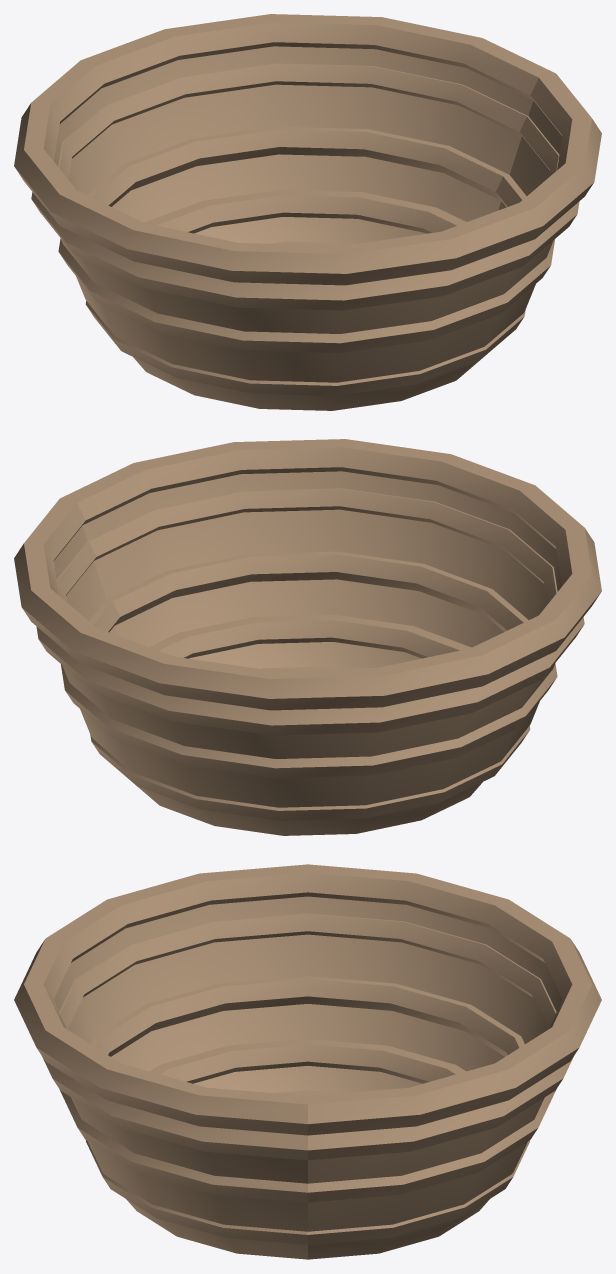
Rendered from restaurant-kitchen-and-dining-bread-basket-237a2bcc__16538.glb.
3 views of the same model, one above another, from view 1: azimuth 30°, elevation 25°; view 2: azimuth 150°, elevation 25°; view 3: azimuth 270°, elevation 25° (orthographic).
Parts seen in each view (by area): view 1: bread-basket; view 2: bread-basket; view 3: bread-basket.
Part boxes in pixels (x1,y1,x2,y2): bread-basket: (14,14,601,410); bread-basket: (14,439,601,835); bread-basket: (14,864,601,1259).
Size of the model in its own units: 0.238 by 0.0879 by 0.238.
